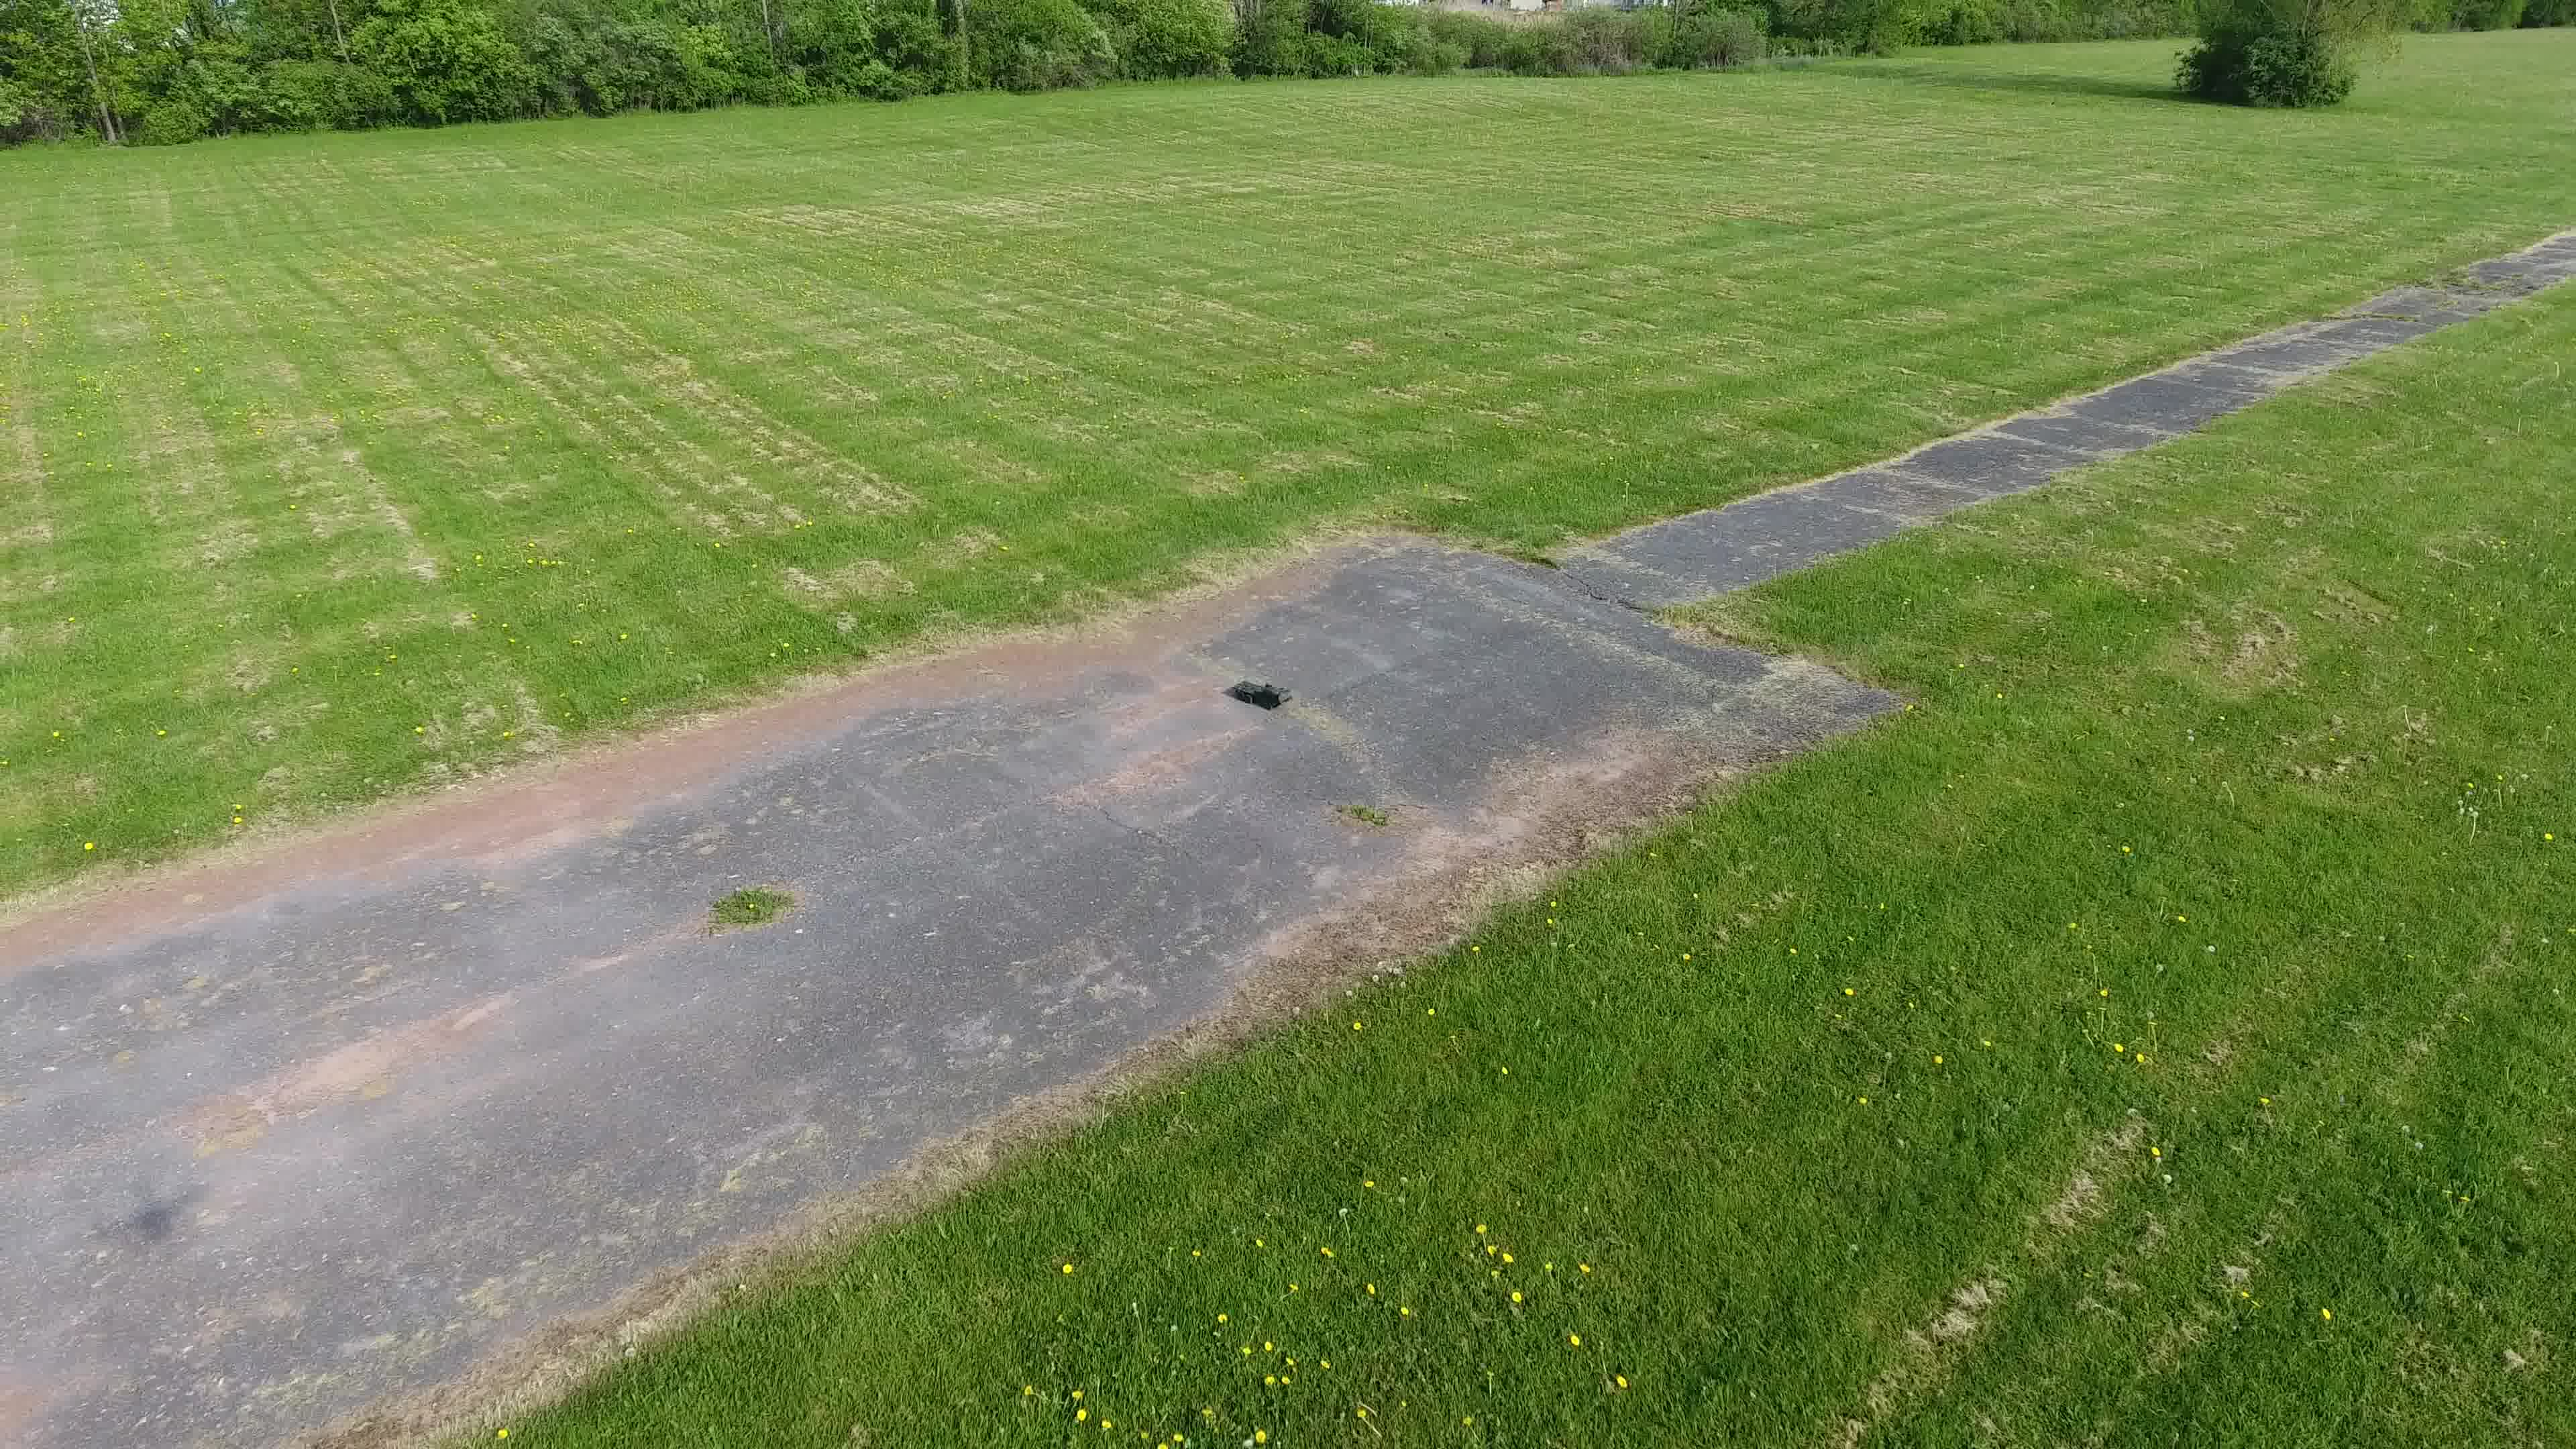transporter9_camo: (1230, 678, 1295, 711)
